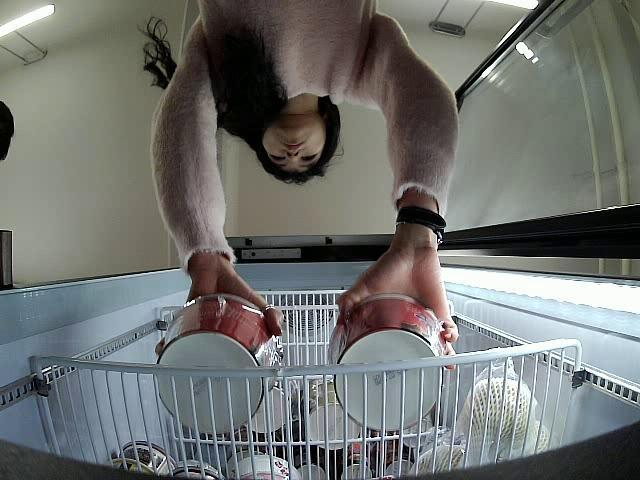01_ShinRamen_L: (154, 294, 286, 435), (327, 296, 447, 428)
